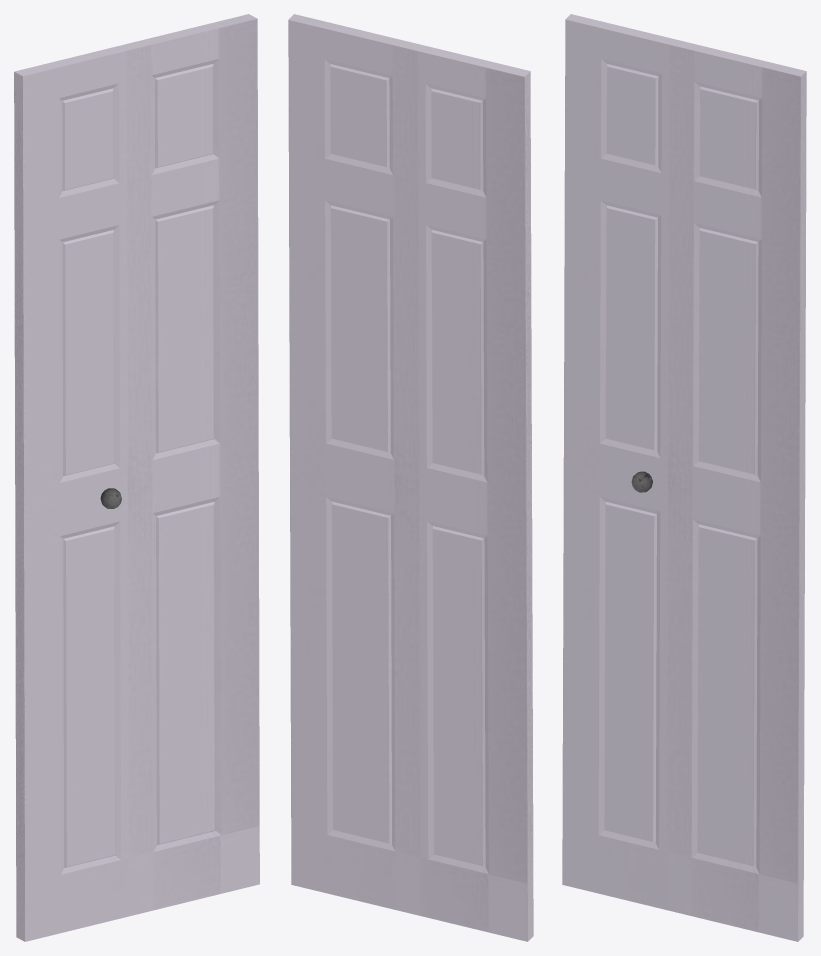
The model's file is double_door_R.glb.
3 views of the same model, side by side, from view 1: azimuth 30°, elevation 25°; view 2: azimuth 150°, elevation 25°; view 3: azimuth 330°, elevation 25° (orthographic).
Parts seen in each view (by area): view 1: frl_apartment_door_05; view 2: frl_apartment_door_05; view 3: frl_apartment_door_05.
Part boxes in pixels (x1=…): frl_apartment_door_05: x1=14, y1=14, x2=259, y2=941; frl_apartment_door_05: x1=288, y1=14, x2=533, y2=941; frl_apartment_door_05: x1=562, y1=14, x2=806, y2=941.
Size of the model in its own units: 0.5933 by 2.06 by 0.0784.
Materials: 1 (1 with a texture image).
